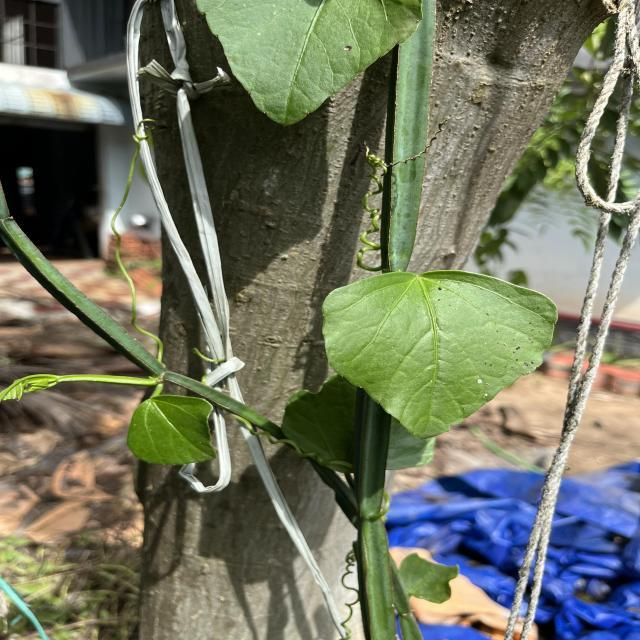Cissus quadrangularis: (318, 268, 562, 442)
